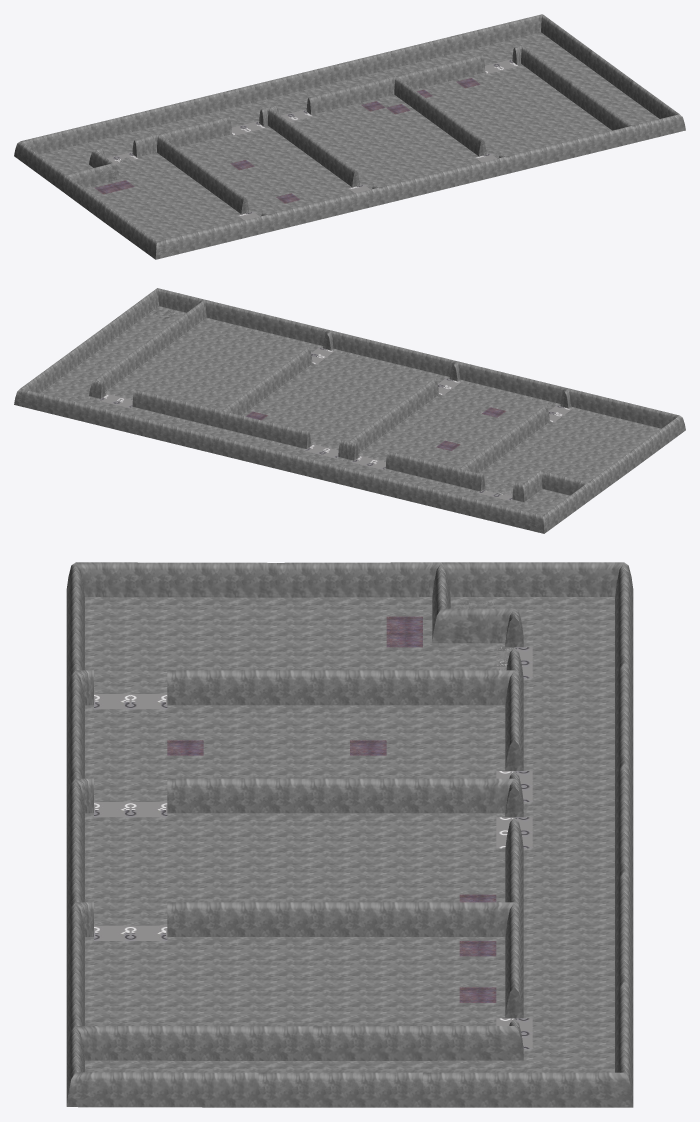
File: level_13.gltf
The picture shows the model from 3 angles, top to bottom: view 1: azimuth 30°, elevation 25°; view 2: azimuth 150°, elevation 25°; view 3: azimuth 270°, elevation 25°; orthographic projection. The views are drawn at different scales.
Parts seen in each view (by area): view 1: Mesh_11, Mesh_9, Mesh_10, Mesh_12, Mesh_14, Mesh_13, Mesh_0, Mesh_1, Mesh_19, Mesh_21, Mesh_15, Mesh_33 (+30 smaller); view 2: Mesh_11, Mesh_9, Mesh_13, Mesh_0, Mesh_10, Mesh_12, Mesh_14, Mesh_1, Mesh_21, Mesh_19, Mesh_33, Mesh_35 (+32 smaller); view 3: Mesh_11, Mesh_9, Mesh_13, Mesh_12, Mesh_0, Mesh_10, Mesh_14, Mesh_68, Mesh_50, Mesh_80, Mesh_6, Mesh_1 (+43 smaller).
Part boxes in pixels (left/top/right/bottom): Mesh_11: left=336, top=131, right=481, bottom=189; Mesh_9: left=463, top=100, right=607, bottom=158; Mesh_10: left=424, top=66, right=564, bottom=124; Mesh_12: left=290, top=97, right=438, bottom=155; Mesh_14: left=179, top=128, right=311, bottom=182; Mesh_13: left=225, top=162, right=354, bottom=216; Mesh_0: left=122, top=189, right=243, bottom=241; Mesh_1: left=86, top=155, right=201, bottom=215; Mesh_19: left=379, top=156, right=507, bottom=204; Mesh_21: left=506, top=126, right=634, bottom=173; Mesh_15: left=155, top=214, right=270, bottom=259; Mesh_33: left=337, top=37, right=451, bottom=81; Mesh_11: left=280, top=351, right=444, bottom=416; Mesh_9: left=153, top=320, right=318, bottom=385; Mesh_13: left=406, top=382, right=555, bottom=443; Mesh_0: left=518, top=409, right=658, bottom=464; Mesh_10: left=108, top=361, right=255, bottom=410; Mesh_12: left=253, top=391, right=381, bottom=450; Mesh_14: left=361, top=422, right=492, bottom=468; Mesh_1: left=483, top=449, right=611, bottom=496; Mesh_21: left=205, top=299, right=330, bottom=345; Mesh_19: left=331, top=330, right=457, bottom=376; Mesh_33: left=111, top=411, right=225, bottom=455; Mesh_35: left=223, top=439, right=336, bottom=482; Mesh_11: left=94, top=817, right=313, bottom=925; Mesh_9: left=94, top=941, right=313, bottom=1026; Mesh_13: left=94, top=709, right=313, bottom=801; Mesh_12: left=313, top=817, right=496, bottom=902; Mesh_0: left=94, top=601, right=302, bottom=693; Mesh_10: left=313, top=941, right=504, bottom=1026; Mesh_14: left=313, top=709, right=496, bottom=778; Mesh_68: left=167, top=778, right=513, bottom=813; Mesh_50: left=167, top=670, right=514, bottom=705; Mesh_80: left=167, top=902, right=513, bottom=936; Mesh_6: left=524, top=908, right=605, bottom=1072; Mesh_1: left=279, top=601, right=513, bottom=670.
Size of the model in its own units: 54.46 by 1.55 by 25.2.
Materials: 7 (7 with a texture image).
